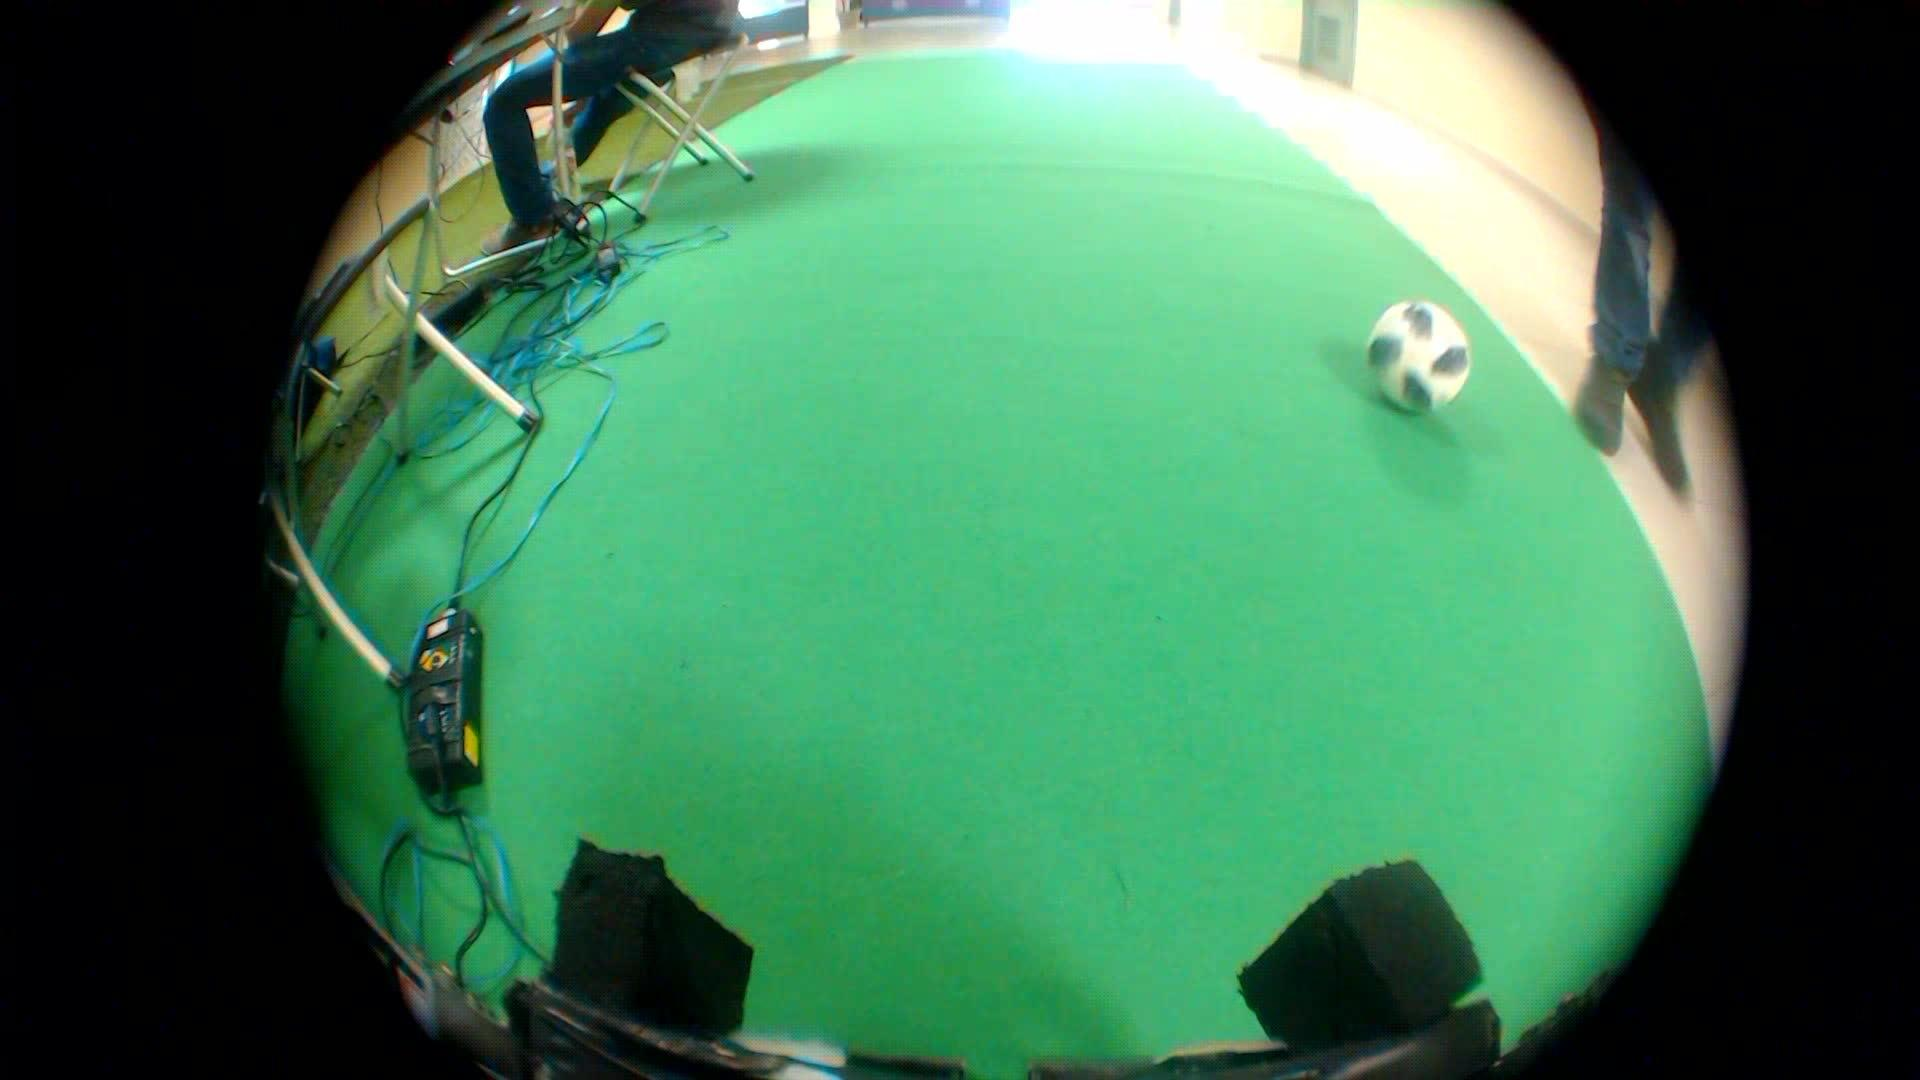ball: (1352, 294, 1476, 425)
